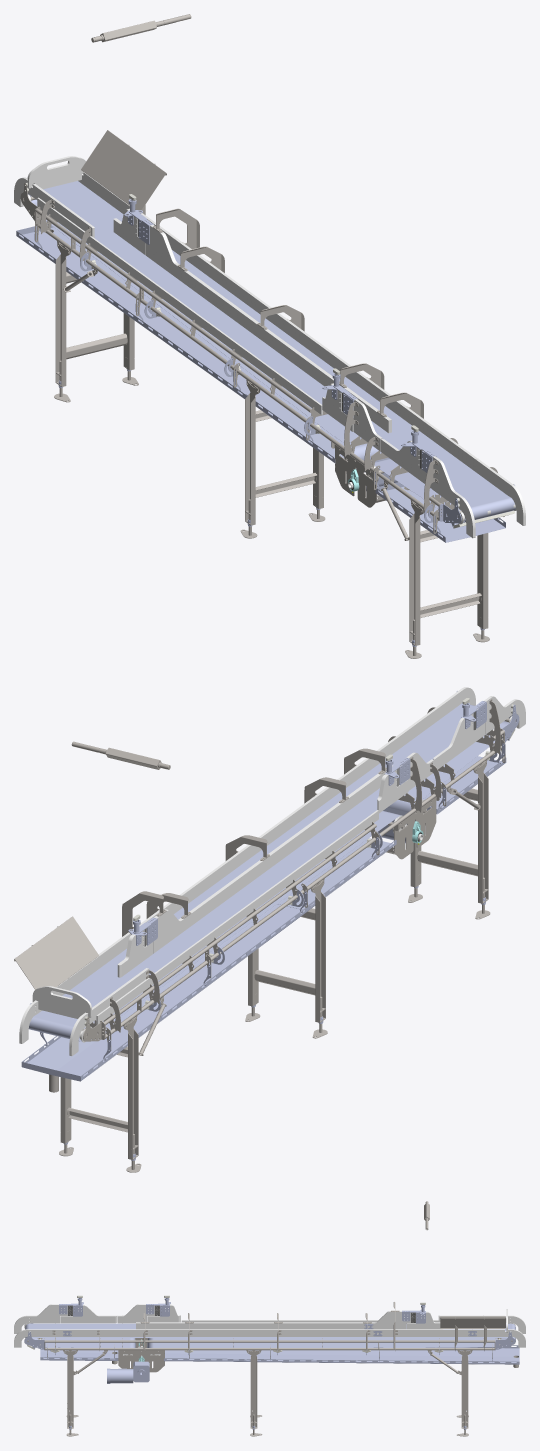
File: sorter-300.v2.min.glb
3 views of the same model, one above another, from view 1: azimuth 30°, elevation 25°; view 2: azimuth 150°, elevation 25°; view 3: azimuth 270°, elevation 25° (orthographic). The views are drawn at different scales.
Parts seen in each view (by area): view 1: component_0586, component_0599, component_0549, component_0513, component_0574, component_0585, component_0591, component_0608, component_0434, component_0439, component_0467, component_0365 (+10 smaller); view 2: component_0586, component_0599, component_0549, component_0513, component_0585, component_0574, component_0608, component_0467, component_0434, component_0439, component_0365, component_0670 (+17 smaller); view 3: component_0586, component_0599, component_0549, component_0585, component_0608, component_0382, component_0364, component_0513, component_0633, component_0591, component_0391, component_0507 (+14 smaller).
Boxes of the visible parts, left/top/right/bottom form: component_0586: left=27, top=181, right=515, bottom=522; component_0599: left=16, top=227, right=275, bottom=398; component_0549: left=112, top=193, right=477, bottom=471; component_0513: left=81, top=130, right=166, bottom=212; component_0574: left=37, top=197, right=322, bottom=414; component_0585: left=179, top=268, right=391, bottom=433; component_0591: left=375, top=486, right=505, bottom=542; component_0608: left=245, top=392, right=344, bottom=463; component_0434: left=55, top=243, right=69, bottom=386; component_0439: left=409, top=501, right=423, bottom=645; component_0467: left=245, top=381, right=258, bottom=525; component_0365: left=140, top=299, right=438, bottom=519; component_0586: left=28, top=703, right=512, bottom=1041; component_0599: left=21, top=901, right=315, bottom=1081; component_0549: left=69, top=714, right=428, bottom=990; component_0513: left=14, top=916, right=98, bottom=989; component_0585: left=186, top=765, right=392, bottom=928; component_0574: left=96, top=810, right=378, bottom=1024; component_0608: left=277, top=838, right=396, bottom=910; component_0467: left=312, top=880, right=325, bottom=1022; component_0434: left=125, top=1017, right=138, bottom=1159; component_0439: left=475, top=761, right=488, bottom=903; component_0365: left=209, top=746, right=501, bottom=962; component_0670: left=32, top=986, right=91, bottom=1018; component_0586: left=25, top=1323, right=515, bottom=1347; component_0599: left=257, top=1345, right=519, bottom=1364; component_0549: left=67, top=1329, right=472, bottom=1336; component_0585: left=136, top=1322, right=368, bottom=1329; component_0608: left=164, top=1350, right=263, bottom=1361; component_0382: left=45, top=1340, right=377, bottom=1342; component_0364: left=45, top=1348, right=377, bottom=1350; component_0513: left=440, top=1316, right=505, bottom=1328; component_0633: left=107, top=1361, right=149, bottom=1383; component_0591: left=40, top=1347, right=118, bottom=1360; component_0391: left=118, top=1351, right=164, bottom=1372; component_0507: left=14, top=1304, right=70, bottom=1333.
Bounding box in the file's own units: 0.6135 × 2.14 × 4.61.
